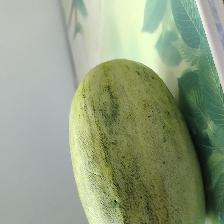gua: (81, 79, 185, 224)
